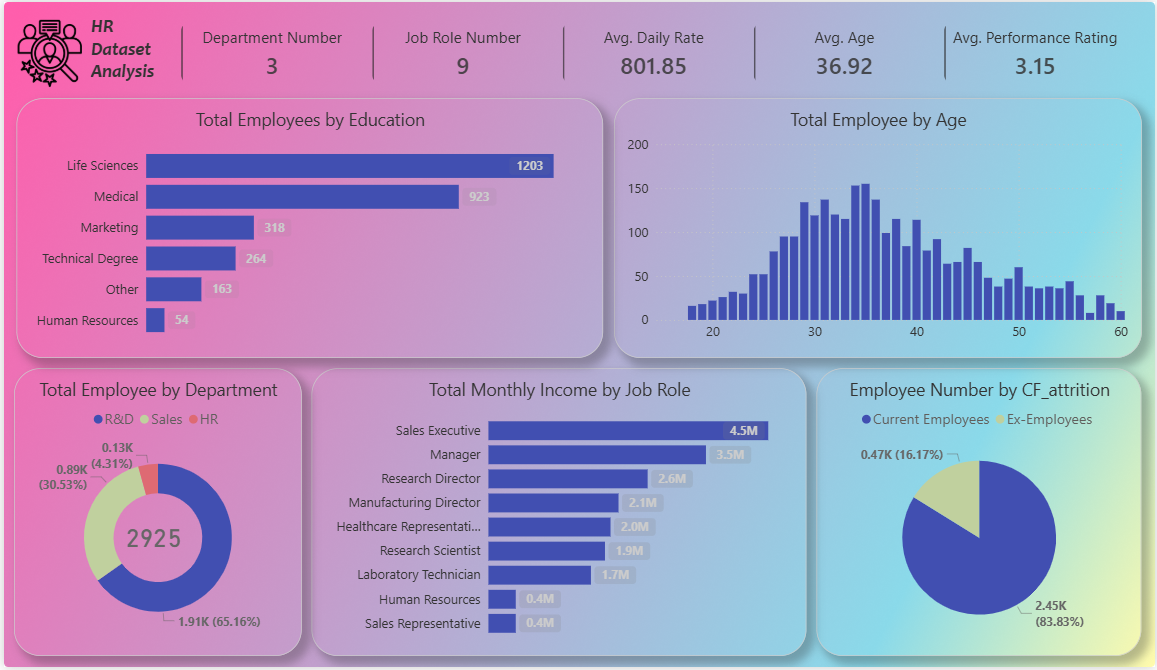

This screenshot's page, from the dashboard's own definition file:
{"tool":"powerbi","page":{"name":"Page 1","canvas":[1315,760],"ordinal":0},"visuals":[{"type":"cardVisual","fields":{"Data":["Count(HR_dataset.Department)","Count(HR_dataset.Job Role)","Avg(HR_dataset.Daily Rate)","Avg(HR_dataset.Age)","Avg(HR_dataset.Performance Rating)"]},"box":[188.6,10,1111.4,97.1],"z":0},{"type":"donutChart","title":"Total Employee by Department","fields":{"Category":["HR_dataset.Department"],"Y":["Count(HR_dataset.emp no)"]},"box":[10.8,418.9,328.6,328.6],"z":0,"group":"g1"},{"type":"columnChart","title":"Total Employee by Age","fields":{"Category":["HR_dataset.Age"],"Y":["Count(HR_dataset.emp no)"]},"box":[697.1,110,602.9,297.1],"z":1000},{"type":"card","fields":{"Values":["Count(HR_dataset.emp no)"]},"box":[98.2,550.4,145.7,122.9],"z":1000,"group":"g1"},{"type":"clusteredBarChart","title":"Total Monthly Income by Job Role","fields":{"Category":["HR_dataset.Job Role"],"Y":["Sum(HR_dataset.Monthly Income)"]},"box":[351.1,418.6,565.7,328.6],"z":2000},{"type":"pieChart","title":"Employee Number by CF_attrition","fields":{"Category":["HR_dataset.CF_attrition label"],"Y":["CountNonNull(HR_dataset.emp no)"]},"box":[928.6,418.6,371.4,328.6],"z":3000},{"type":"group","id":"g1","title":"Group 1","box":[10.8,418.9,328.6,328.6],"z":4000},{"type":"image","box":[13.8,10,76.2,97.5],"z":5000},{"type":"textbox","box":[93.8,10,95,97.5],"z":6000},{"type":"barChart","title":"Total Employees by Education","fields":{"Category":["HR_dataset.Education Field"],"Y":["Count(HR_dataset.emp no)"]},"box":[14.3,110,670,297],"z":7000}]}

Visuals, with their boxes in screenshot pixels (x1, y1, x2, y2), scaled from the page's 1315x760 canvas onto the 1157x670 screenshot:
cardVisual - Count(HR_dataset.Department) x Count(HR_dataset.Job Role): [x1=166, y1=9, x2=1144, y2=94]
"Total Employee by Department" donutChart: [x1=10, y1=369, x2=299, y2=659]
"Total Employee by Age" columnChart: [x1=613, y1=97, x2=1144, y2=359]
card - Count(HR_dataset.emp no): [x1=86, y1=485, x2=215, y2=594]
"Total Monthly Income by Job Role" clusteredBarChart: [x1=309, y1=369, x2=807, y2=659]
"Employee Number by CF_attrition" pieChart: [x1=817, y1=369, x2=1144, y2=659]
"Group 1" group: [x1=10, y1=369, x2=299, y2=659]
image: [x1=12, y1=9, x2=79, y2=95]
textbox: [x1=83, y1=9, x2=166, y2=95]
"Total Employees by Education" barChart: [x1=13, y1=97, x2=602, y2=359]
